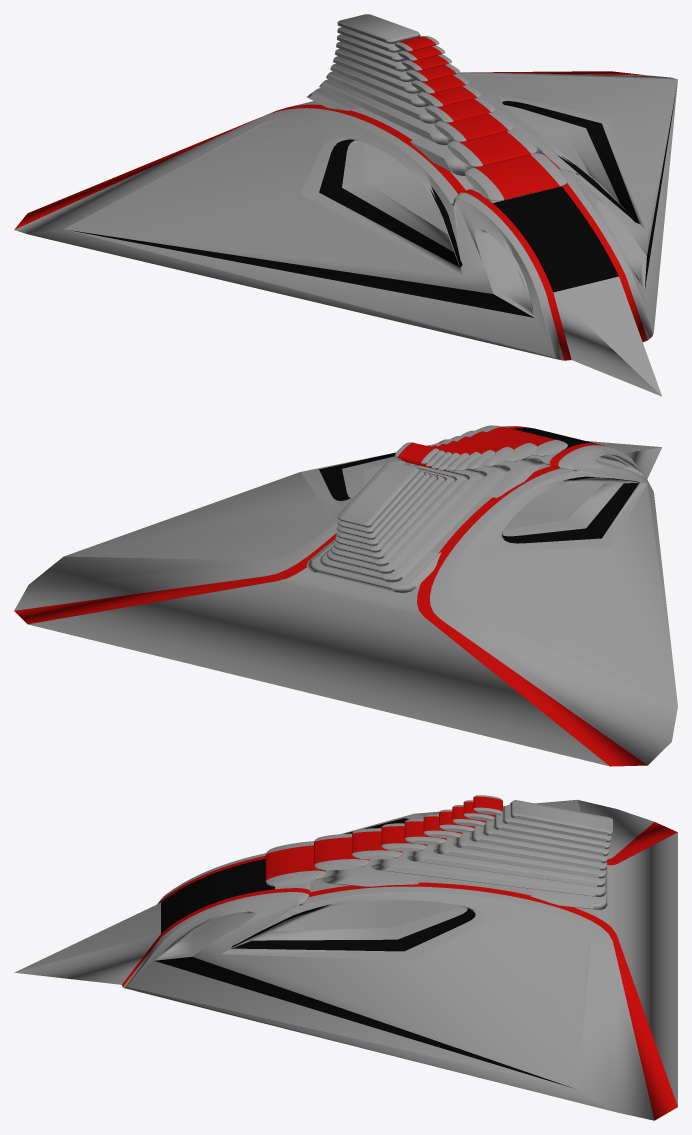
Rendered from enemy.gltf.
3 views of the same model, one above another, from view 1: azimuth 30°, elevation 25°; view 2: azimuth 150°, elevation 25°; view 3: azimuth 270°, elevation 25° (orthographic). The views are drawn at different scales.
Parts seen in each view (by area): view 1: Text; view 2: Text; view 3: Text.
Part boxes in pixels (x1,y1,x2,y2): Text: (14, 14, 677, 396); Text: (14, 425, 677, 766); Text: (14, 795, 677, 1120).
Bounding box in the file's own units: 4.54 × 1.19 × 4.2.
